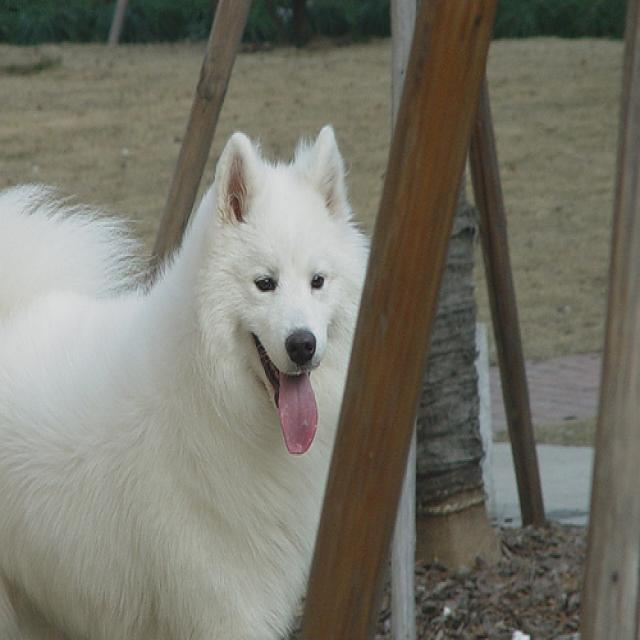dog-samoyed: (1, 113, 379, 637)
